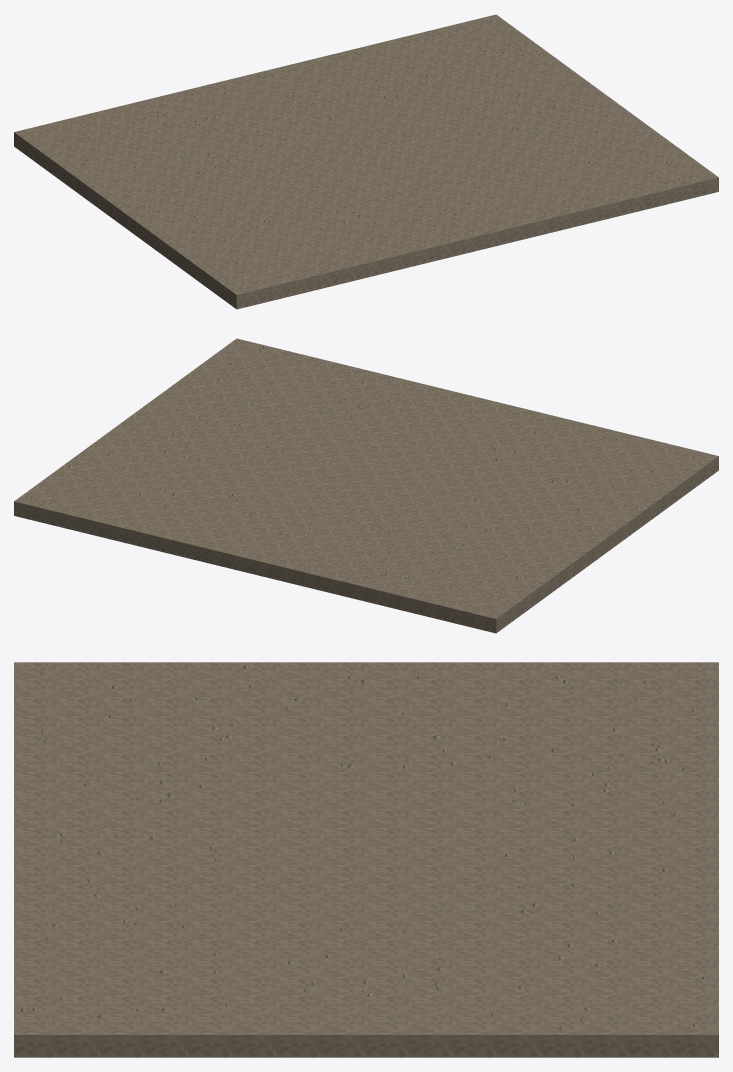
The model's file is SM_Substation_Gravel.fbx.
3 renders of one model, top to bottom at view 1: azimuth 30°, elevation 25°; view 2: azimuth 150°, elevation 25°; view 3: azimuth 270°, elevation 25°, orthographic. The views are drawn at different scales.
Parts seen in each view (by area): view 1: SM_Substation_Gravel; view 2: SM_Substation_Gravel; view 3: SM_Substation_Gravel.
Part boxes in pixels (x1=…): SM_Substation_Gravel: x1=14, y1=14, x2=718, y2=309; SM_Substation_Gravel: x1=14, y1=338, x2=718, y2=633; SM_Substation_Gravel: x1=14, y1=662, x2=718, y2=1057.
Bounding box in the file's own units: 20 × 16 × 0.63.
